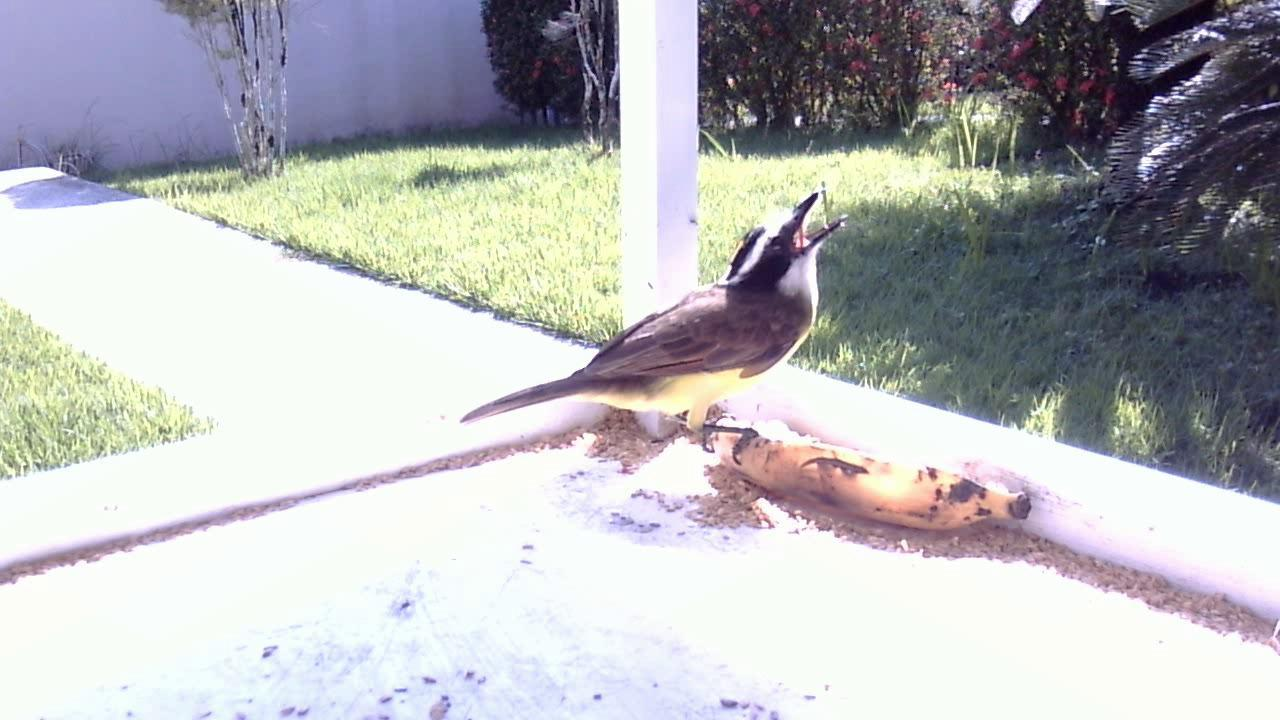bem_te_vi: (445, 181, 864, 492)
